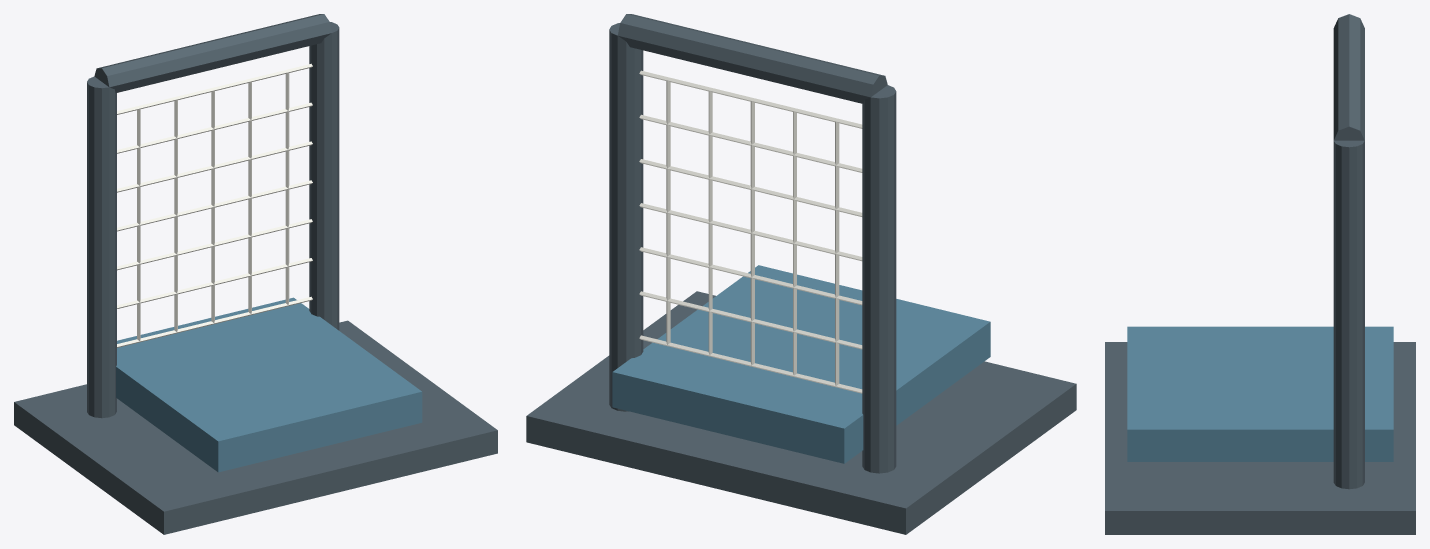
The model's file is american-football-stadium-kit-snap-trainer-36159cec.glb.
3 views of the same model, side by side, from view 1: azimuth 30°, elevation 25°; view 2: azimuth 150°, elevation 25°; view 3: azimuth 270°, elevation 25° (orthographic). The views are drawn at different scales.
Parts seen in each view (by area): view 1: snap-trainer; view 2: snap-trainer; view 3: snap-trainer.
Part boxes in pixels (x1,y1,x2,y2): snap-trainer: (14,14,497,534); snap-trainer: (526,14,1076,534); snap-trainer: (1105,14,1415,534).
Bounding box in the file's own units: 0.9 × 0.945 × 0.6999.
